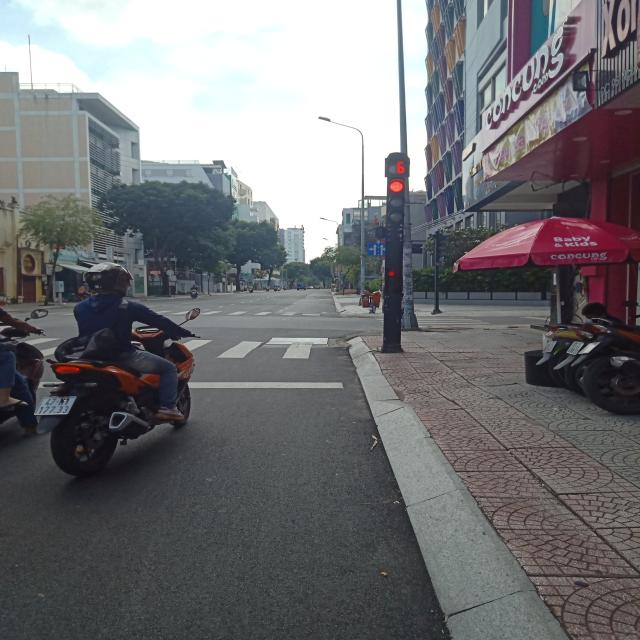Red: (387, 176, 408, 223), (386, 267, 402, 298)
